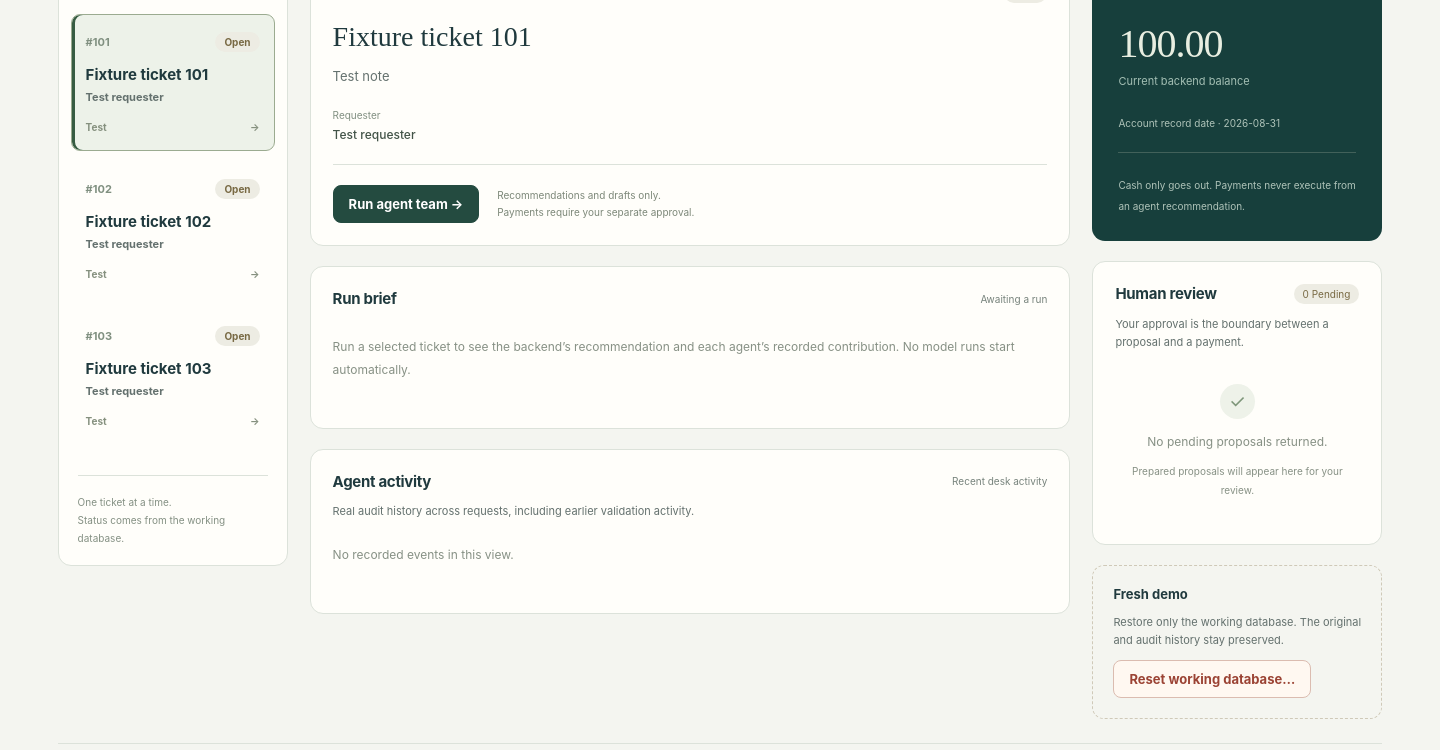
operations desk › does not reset until confirmation and refreshes after reset
This screenshot has width=1440, height=750.
(page scrolled)
Expected: the text "100.00" is shown, [1118, 21, 1222, 66]
Click the button "Reset working database…" at point(1212, 679), box [1113, 660, 1311, 698]
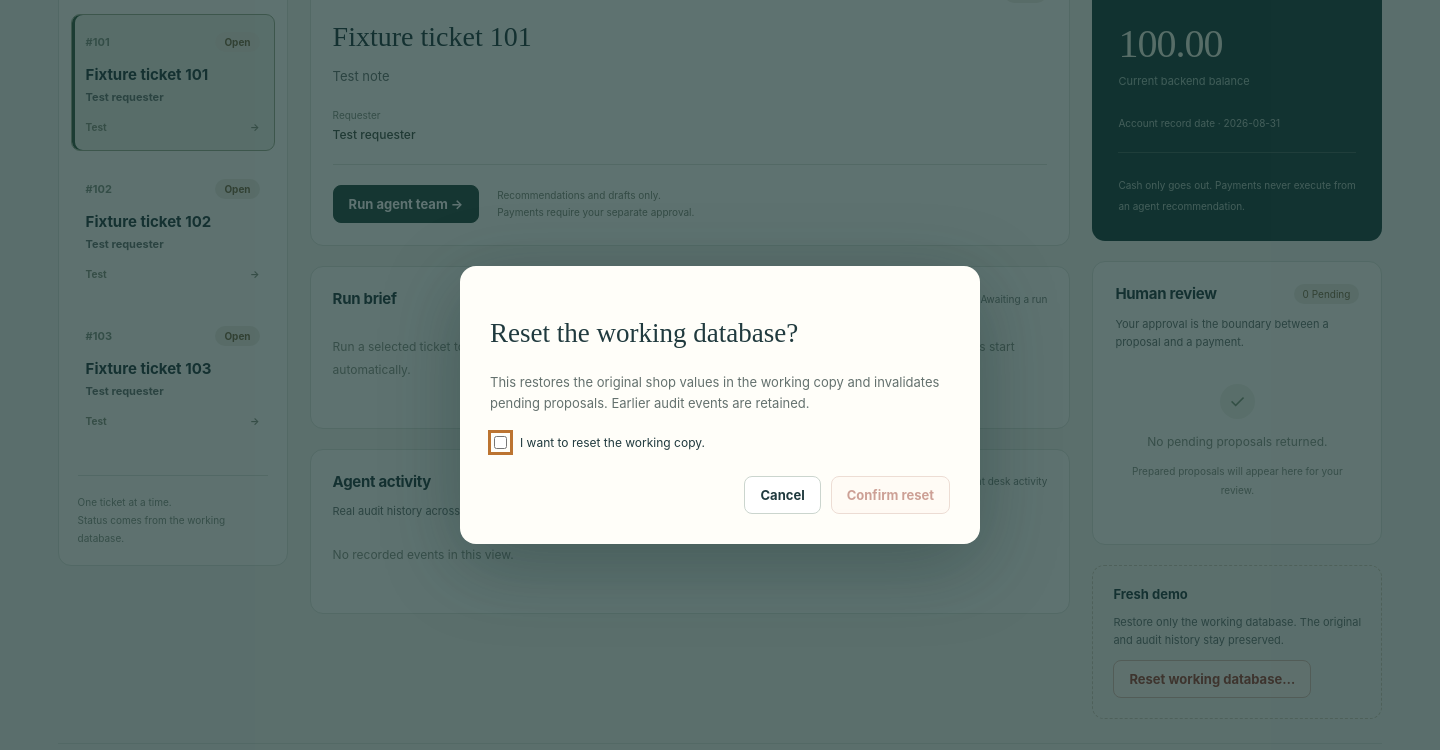
Click the checkbox at point(500, 442), box [494, 436, 507, 449]
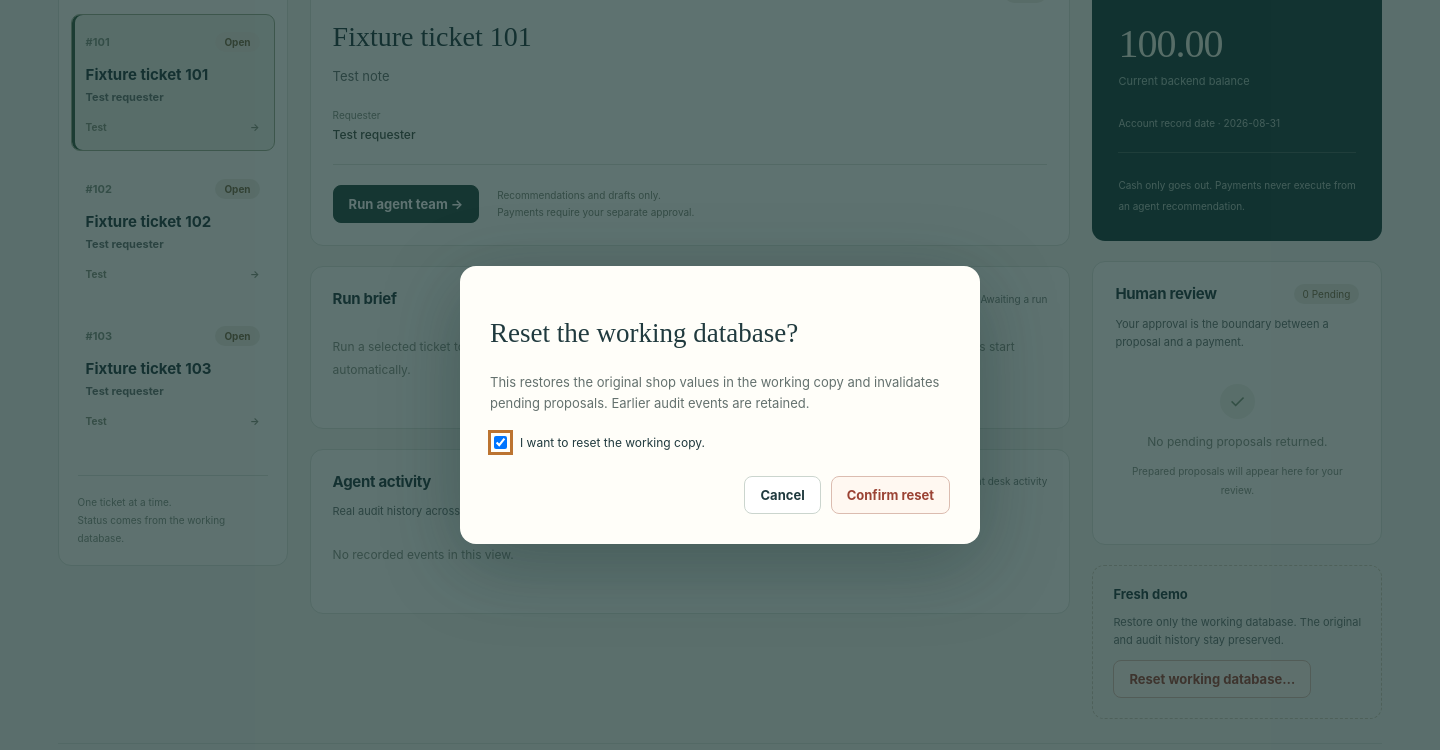
Click the button "Confirm reset" at point(890, 495), box [831, 476, 950, 514]
(page scrolled)
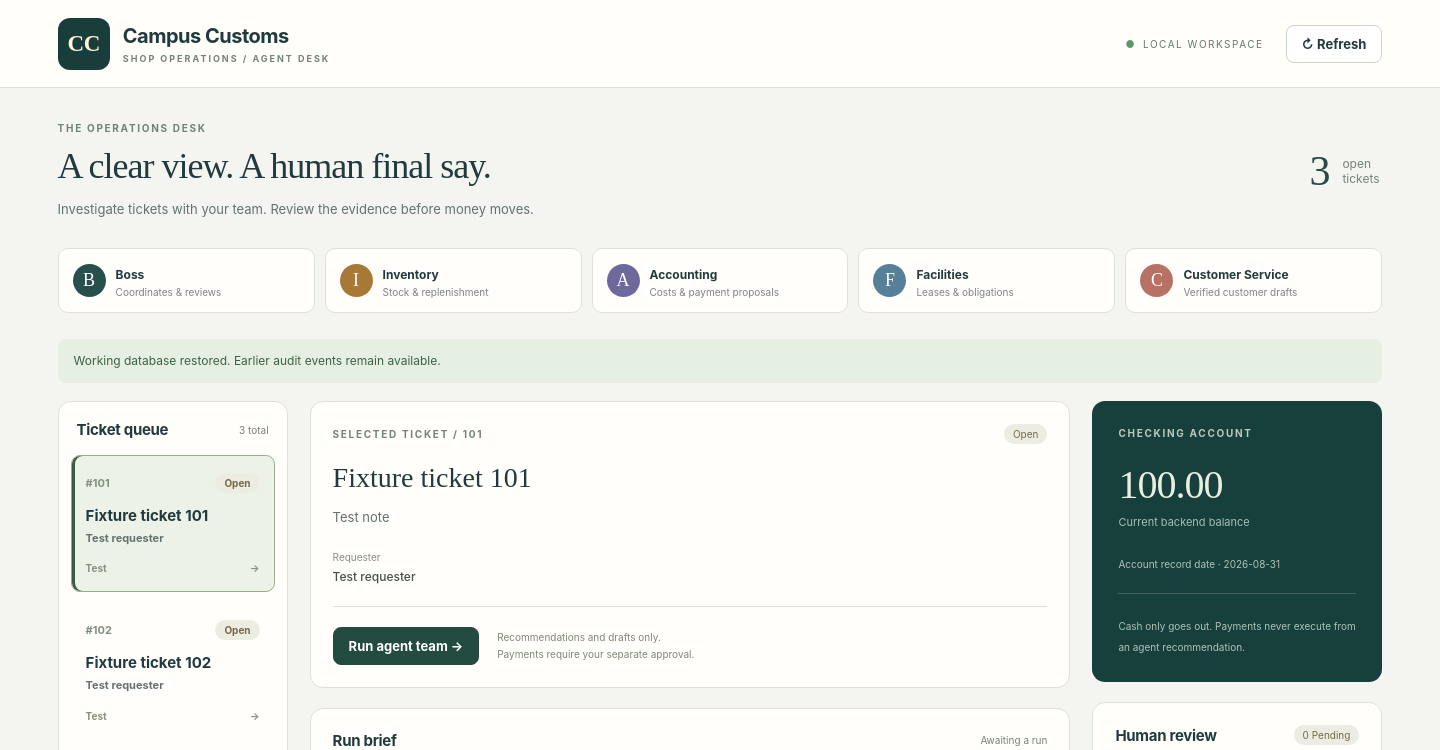
Expected: the text "Working database restored. Earlier audit events remain available." is shown, [58, 339, 1382, 383]
